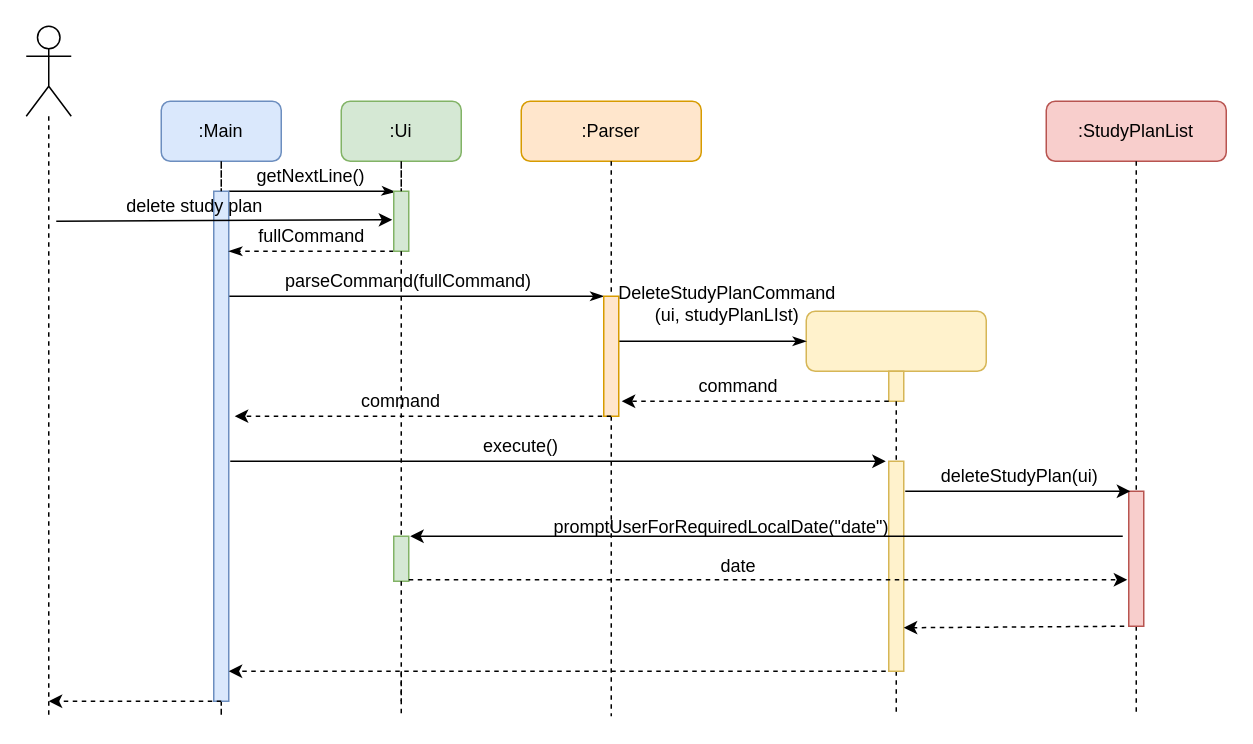
Image size: 1253x744. Some labels were removed from this diagram. The shapes that lost their labels are listed below. From the top down, each one's box as (x1, y1, x2, y2) in pixels, then its label:
(25, 25, 71, 116): Actor
(805, 310, 986, 371): :DeleteStudyPlan Command
